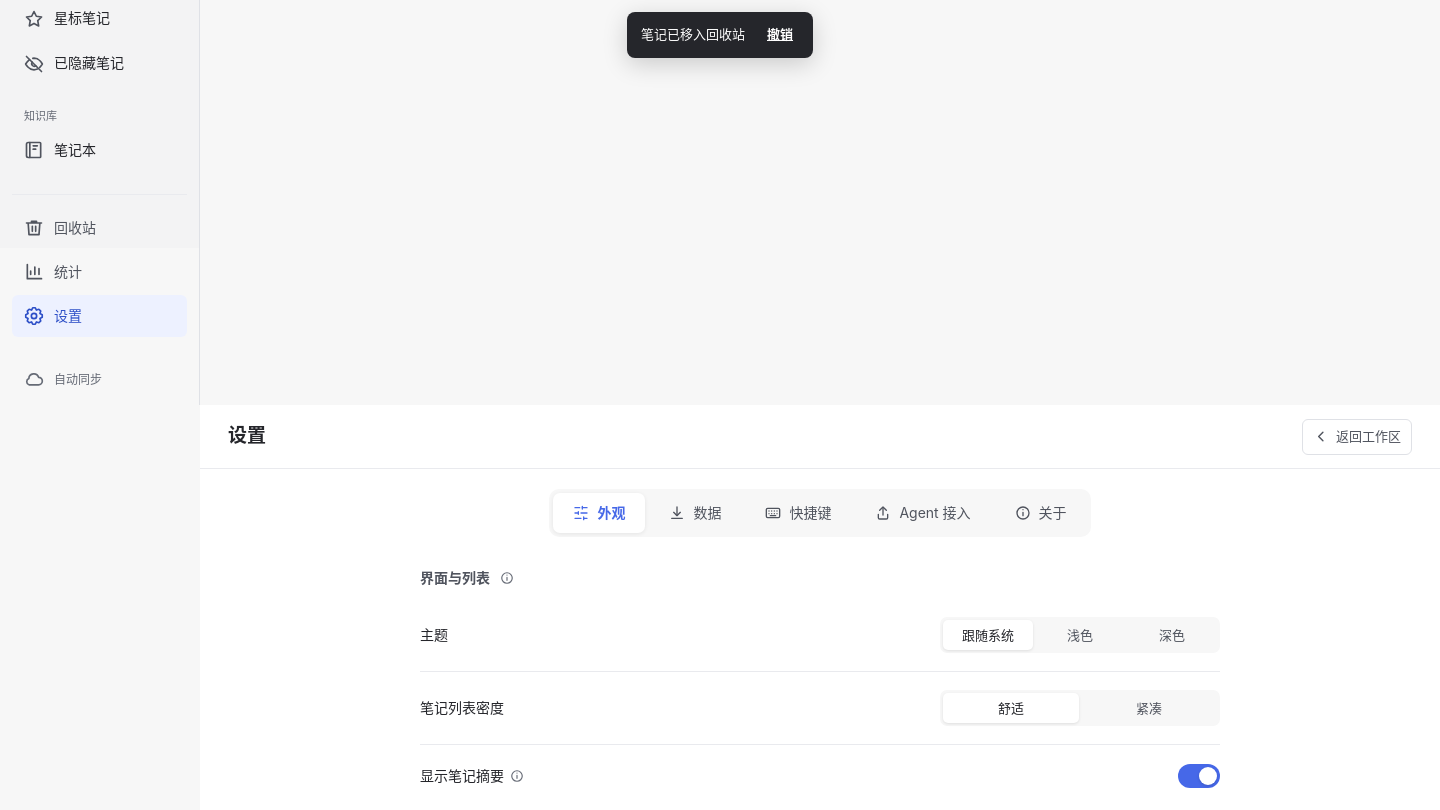
Test: App 扩展快捷键 › Ctrl+, 打开设置页面，侧栏仍可操作，返回后恢复笔记
(page scrolled)
Expected: the element named "设置" is shown, [200, 405, 1439, 809]
Click the button with aria-label "返回工作区": click(1357, 436) [1302, 418, 1412, 454]
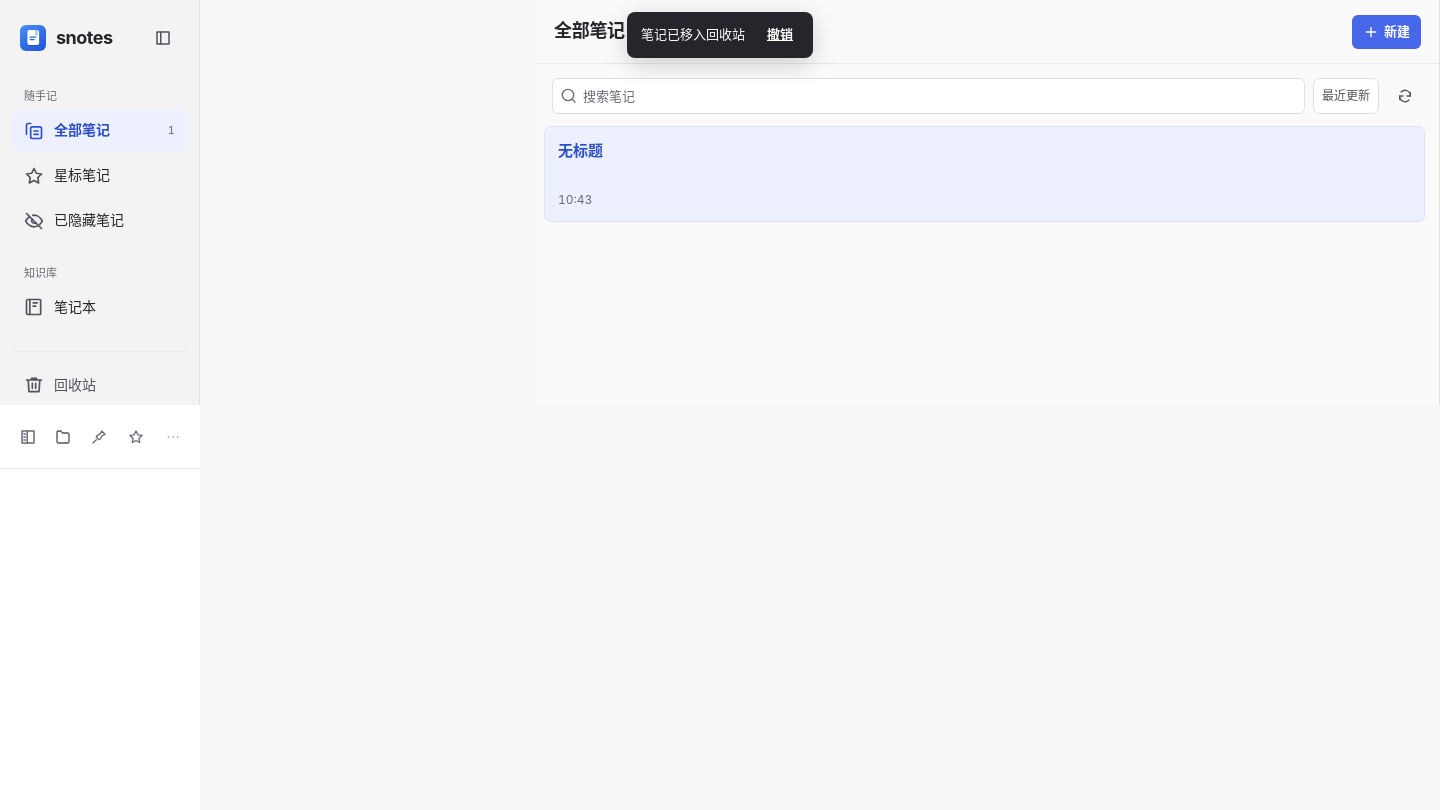
Now the button named "设置" is gone
